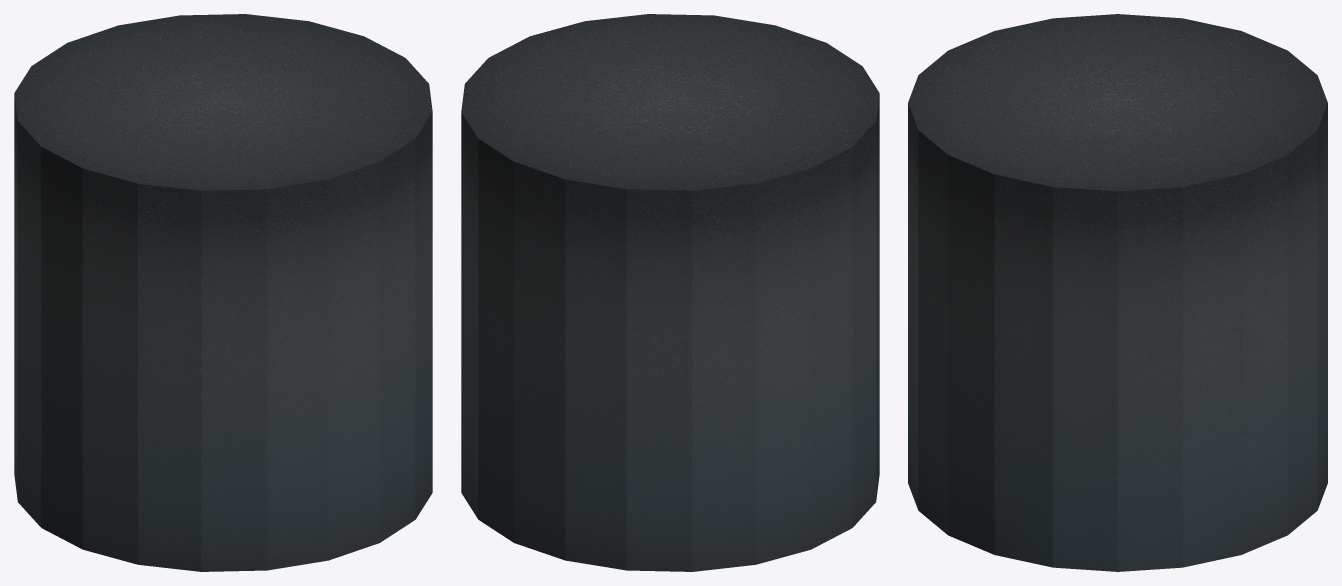
Rendered from Room.obj.
The picture shows the model from 3 angles, left to right: view 1: azimuth 30°, elevation 25°; view 2: azimuth 150°, elevation 25°; view 3: azimuth 270°, elevation 25°; orthographic projection.
Visible parts, largest first — view 1: Cylinder.001; view 2: Cylinder.001; view 3: Cylinder.001.
Part boxes in pixels (<box>): Cylinder.001: <box>14,14,432,571</box>; Cylinder.001: <box>461,14,879,571</box>; Cylinder.001: <box>908,14,1327,571</box>.
Size of the model in its own units: 2 by 2 by 2.
Materials: 1 (1 with a texture image).
